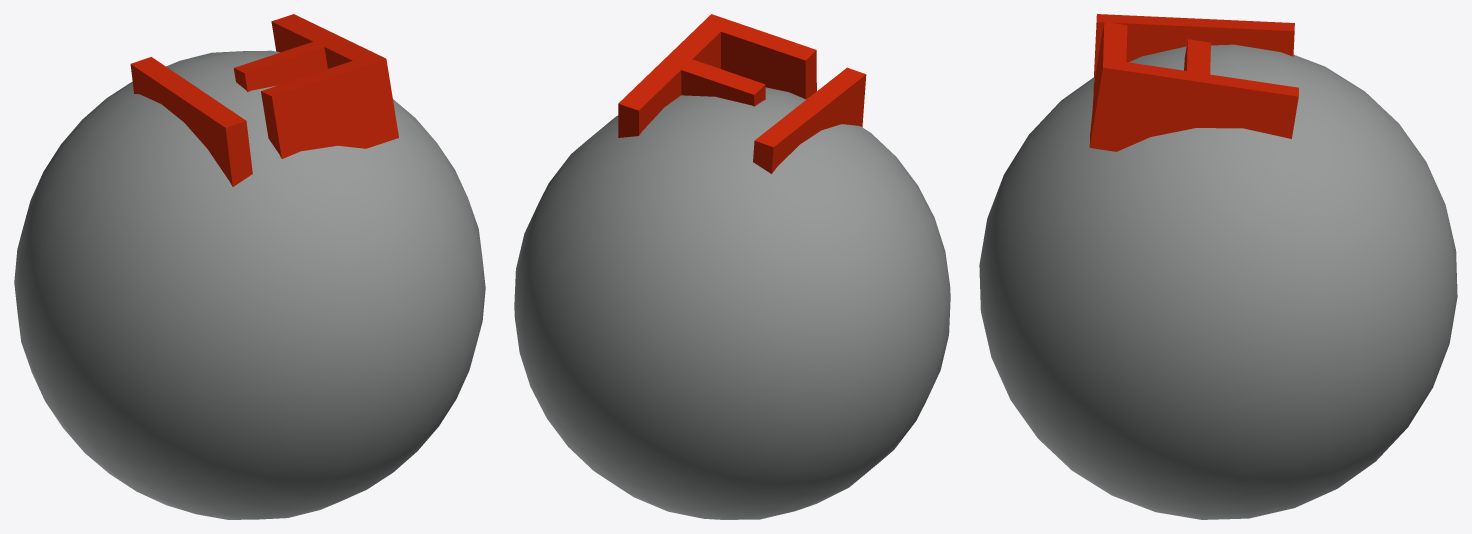
The picture shows the model from 3 angles, left to right: view 1: azimuth 30°, elevation 25°; view 2: azimuth 150°, elevation 25°; view 3: azimuth 270°, elevation 25°; orthographic projection. The views are drawn at different scales.
Visible parts, largest first — view 1: Hg002, Object014, Object009; view 2: Hg002, Object014, Object009; view 3: Hg002, Object014, Object009.
Part boxes in pixels (x1,y1,x2,y2): Hg002: (14,50,485,519); Object014: (233,14,398,158); Object009: (130,57,252,186); Hg002: (514,87,950,519); Object014: (618,14,816,137); Object009: (753,67,866,173); Hg002: (979,44,1457,519); Object014: (1089,21,1298,151); Object009: (1094,14,1294,78).
Size of the model in its own units: 38.61 by 41.82 by 38.66.
